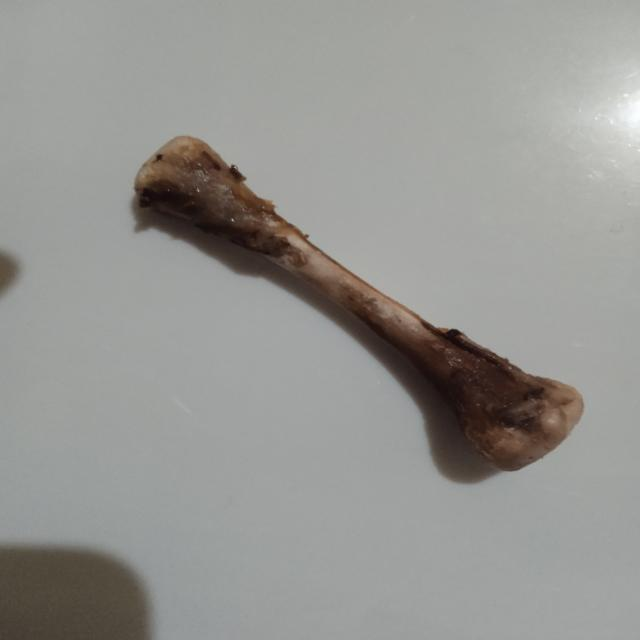bone: (128, 130, 591, 476)
